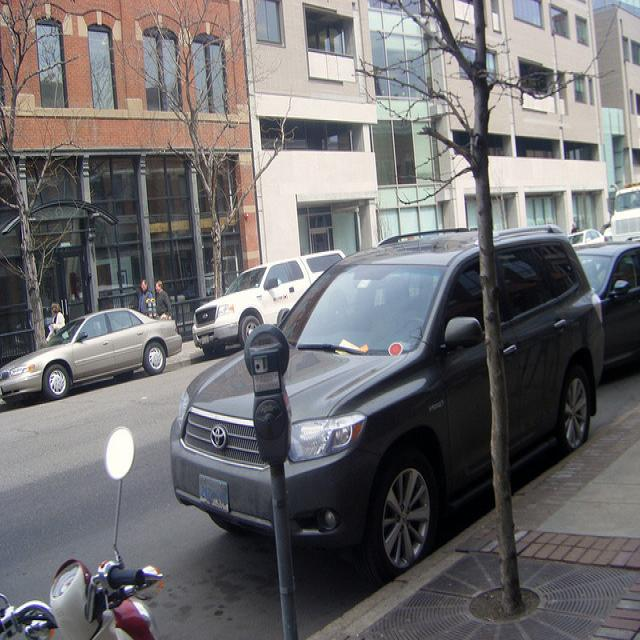motor: (0, 420, 169, 633)
